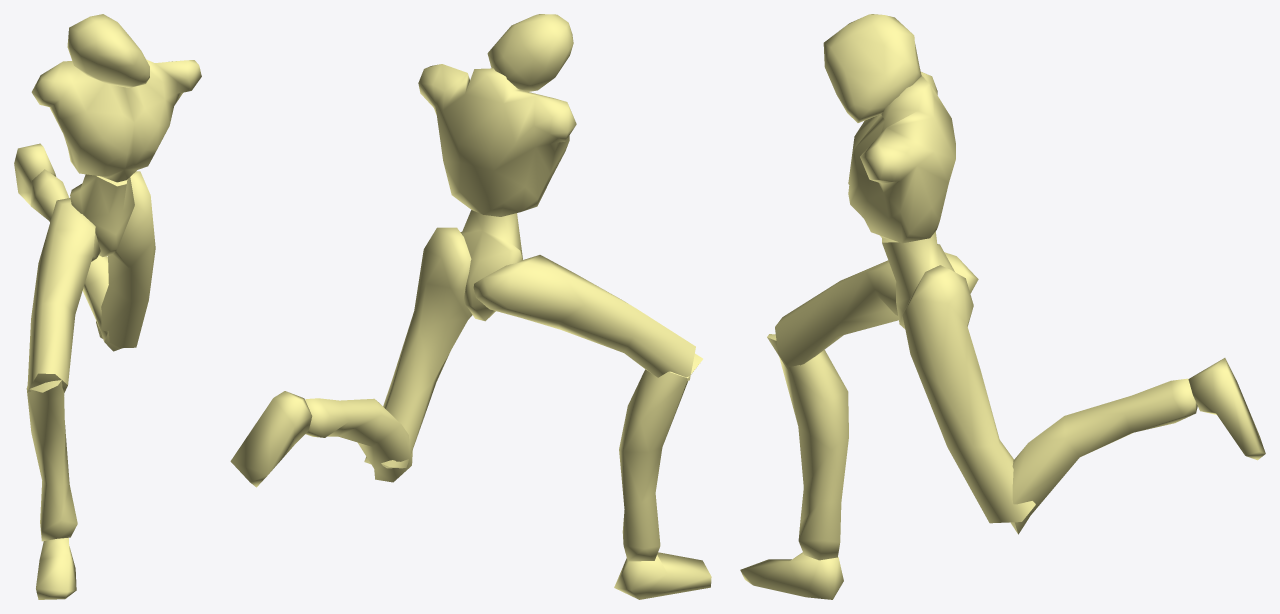
File: filth16.obj
3 views of the same model, side by side, from view 1: azimuth 30°, elevation 25°; view 2: azimuth 150°, elevation 25°; view 3: azimuth 270°, elevation 25° (orthographic). The views are drawn at different scales.
Visible parts, largest first — view 1: Melee_Husk; view 2: Melee_Husk; view 3: Melee_Husk.
Part boxes in pixels (left/top/right/bottom): Melee_Husk: left=14, top=14, right=201, bottom=599; Melee_Husk: left=230, top=14, right=711, bottom=599; Melee_Husk: left=740, top=14, right=1265, bottom=599.
Bounding box in the file's own units: 31.59 × 69.95 × 54.04.
